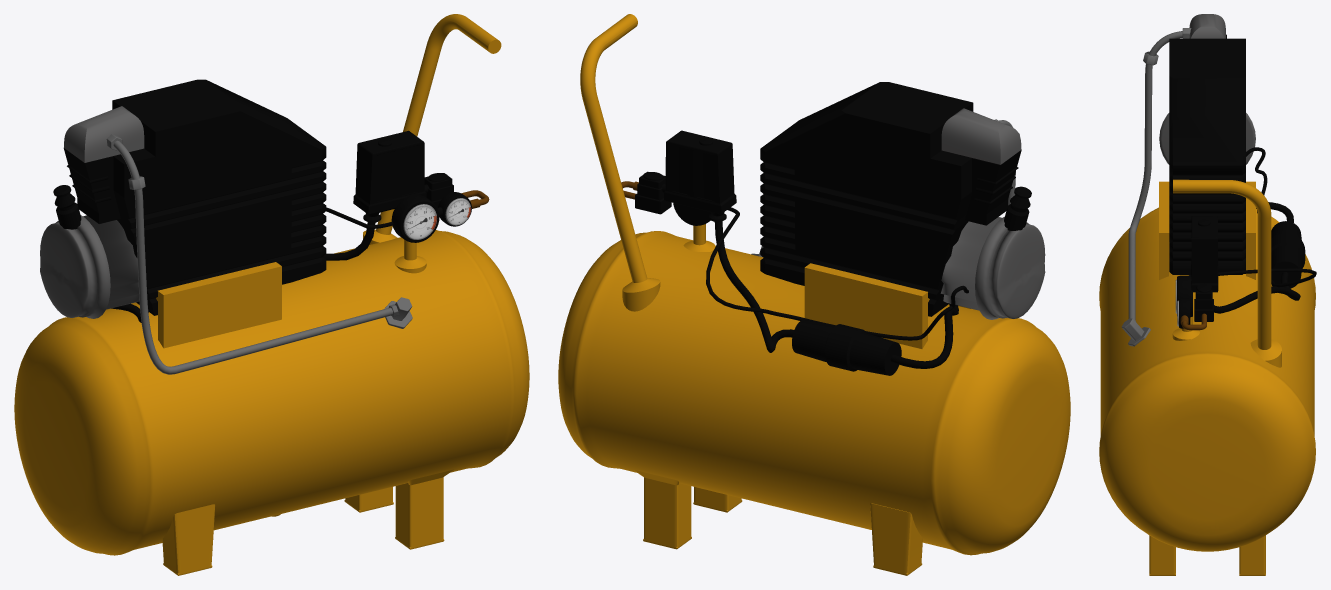
The model's file is 空压机金色罐体加弯管加黑色电机.glb.
3 views of the same model, side by side, from view 1: azimuth 30°, elevation 25°; view 2: azimuth 150°, elevation 25°; view 3: azimuth 270°, elevation 25° (orthographic). The views are drawn at different scales.
Visible parts, largest first — view 1: 金色机身.003; view 2: 金色机身.003; view 3: 金色机身.003.
Boxes of the visible parts, x1,y1,x2,y2 form: 金色机身.003: (14,14,529,575); 金色机身.003: (558,14,1070,575); 金色机身.003: (1099,14,1316,575).
Bounding box in the file's own units: 0.7484 × 0.7916 × 0.3662.
Materials: 7 (1 with a texture image).
